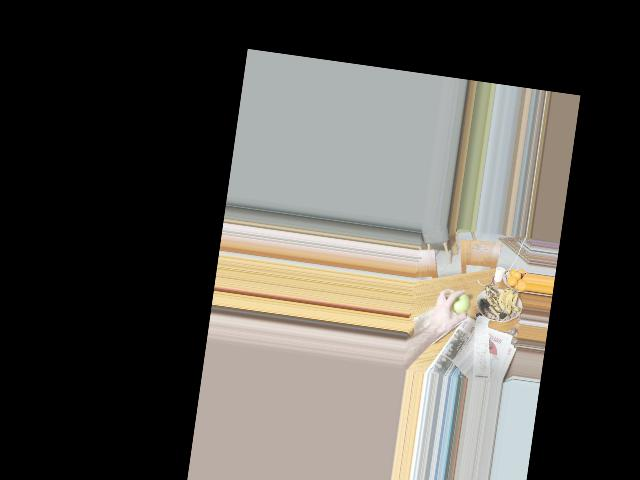apple: (444, 287, 471, 320)
